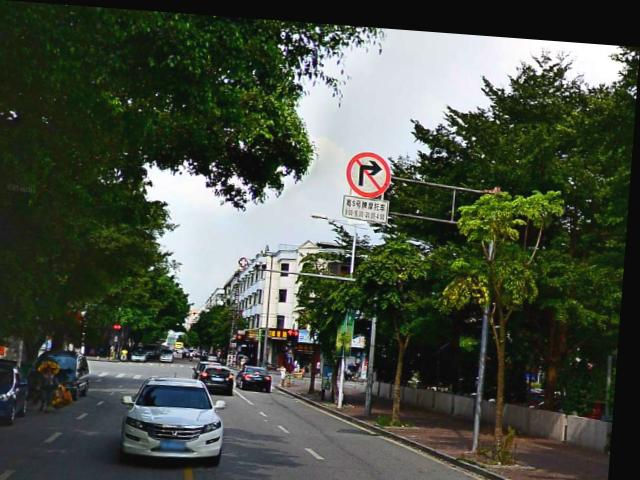not_turn_right: (346, 145, 395, 195)
